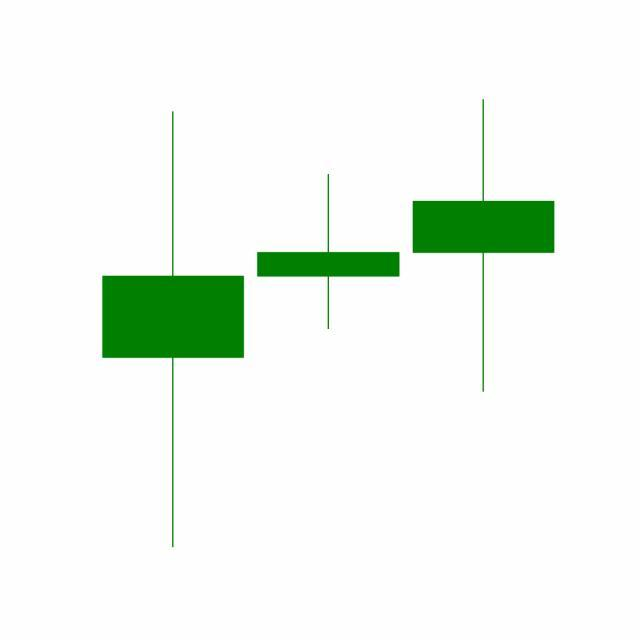Spinning Top: (250, 172, 407, 332)
